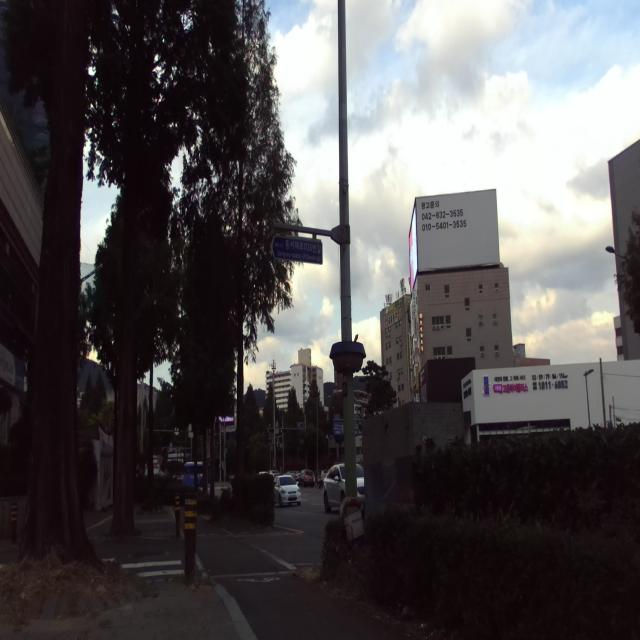횡단보도: (101, 557, 186, 578)
